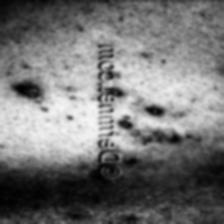Unclassified: (136, 100, 162, 120), (23, 83, 51, 101)
